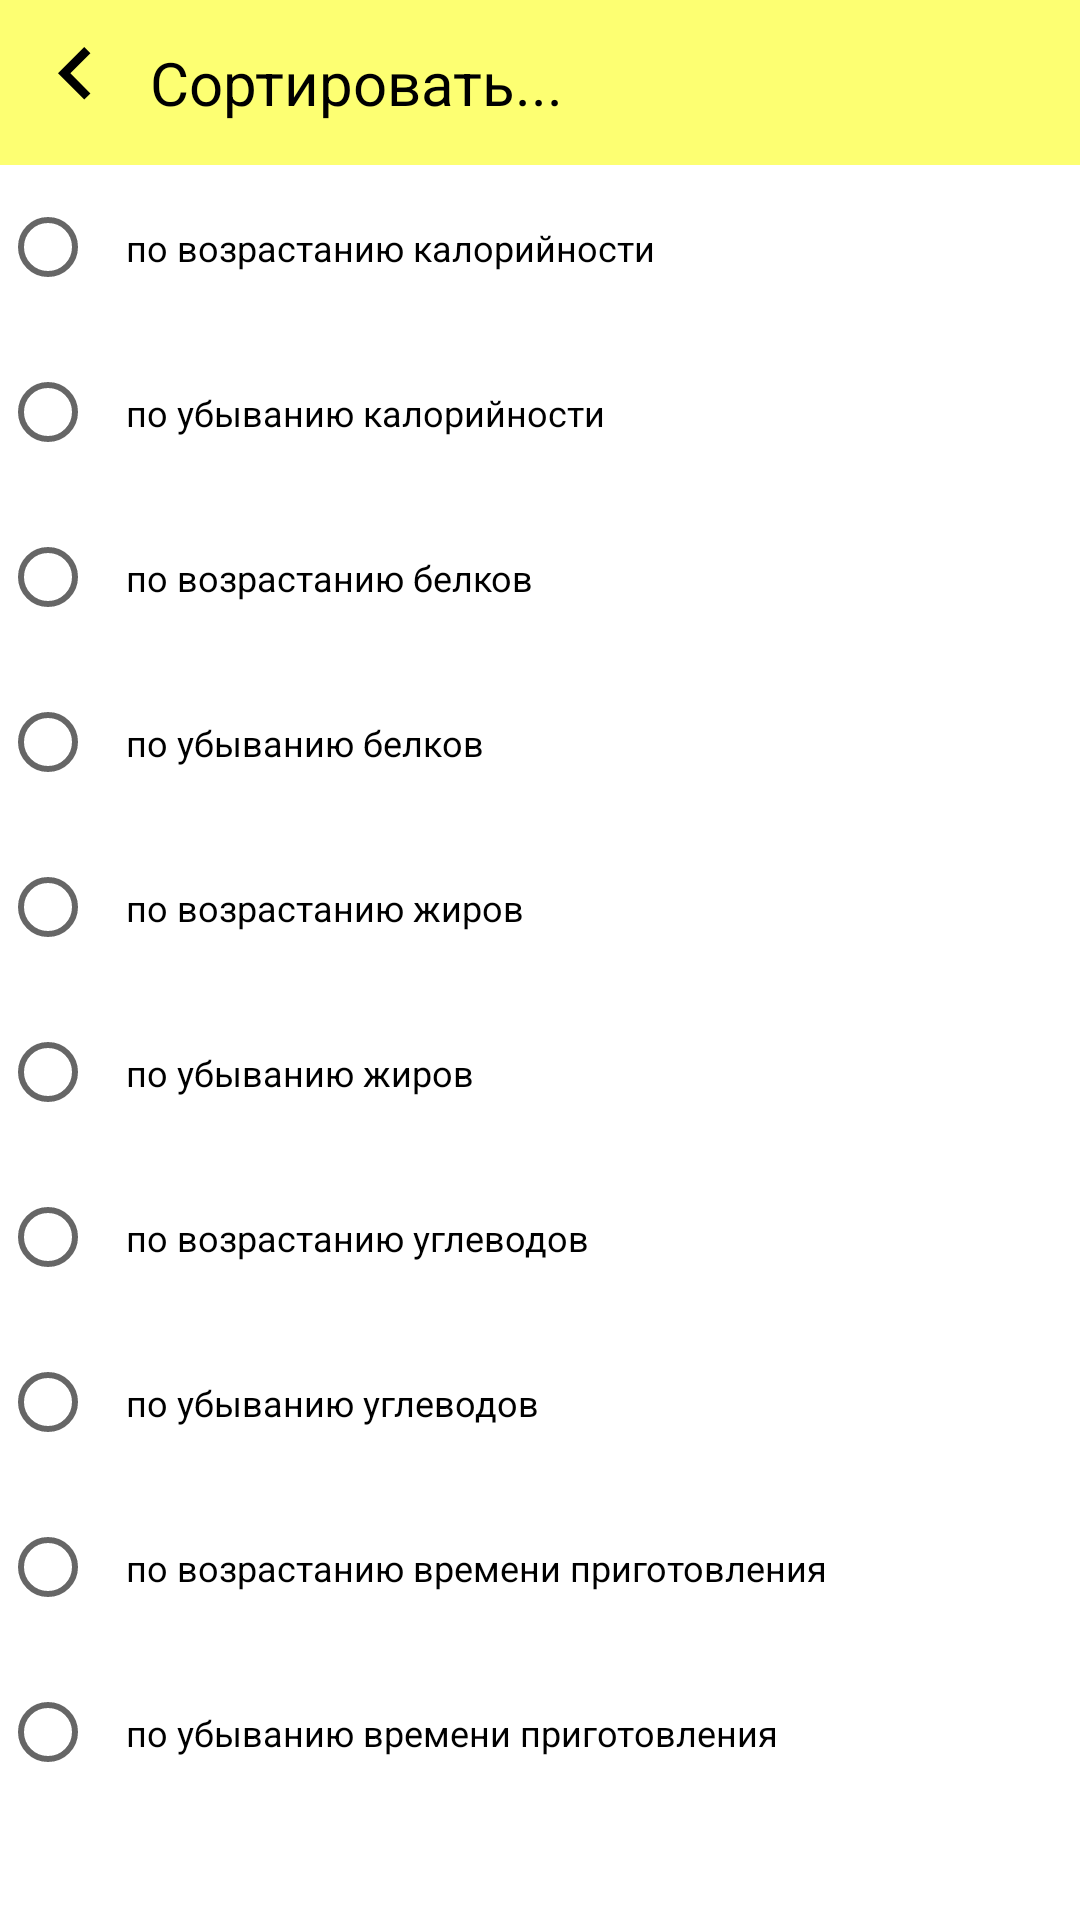

Screen size 1080 × 1920. Icon name, then its center in pixels as (x=x, y=y):
arrow left: (x=74, y=73)
